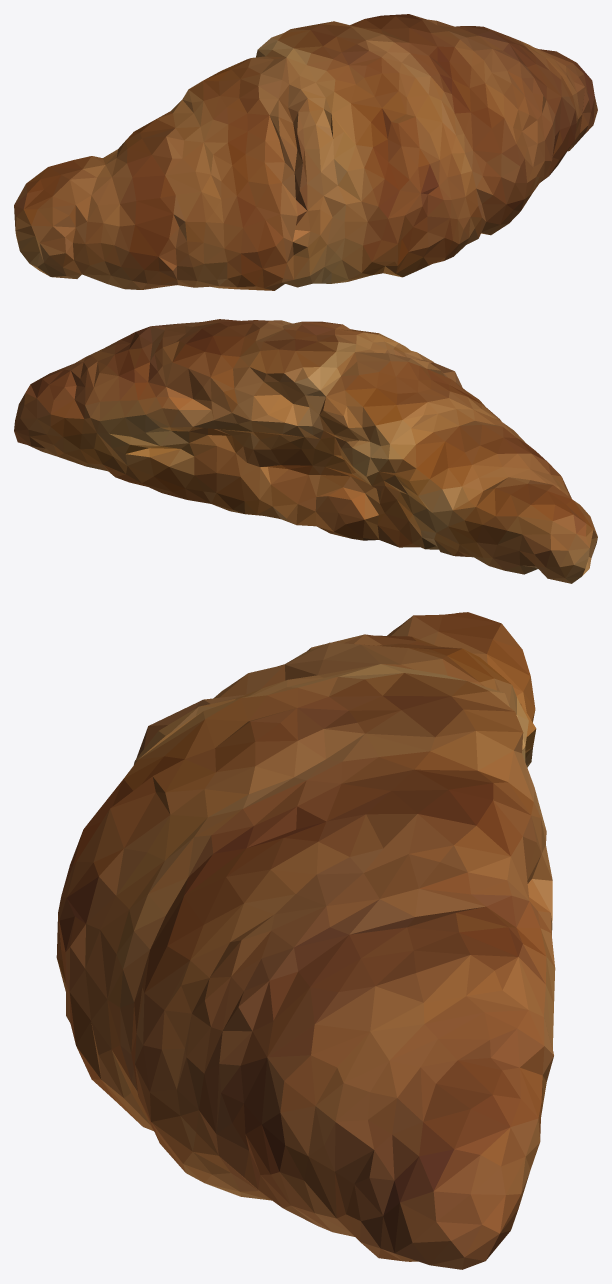
3 views of the same model, one above another, from view 1: azimuth 30°, elevation 25°; view 2: azimuth 150°, elevation 25°; view 3: azimuth 270°, elevation 25° (orthographic). The views are drawn at different scales.
Size of the model in its own units: 1.8 by 0.557 by 0.6785.
